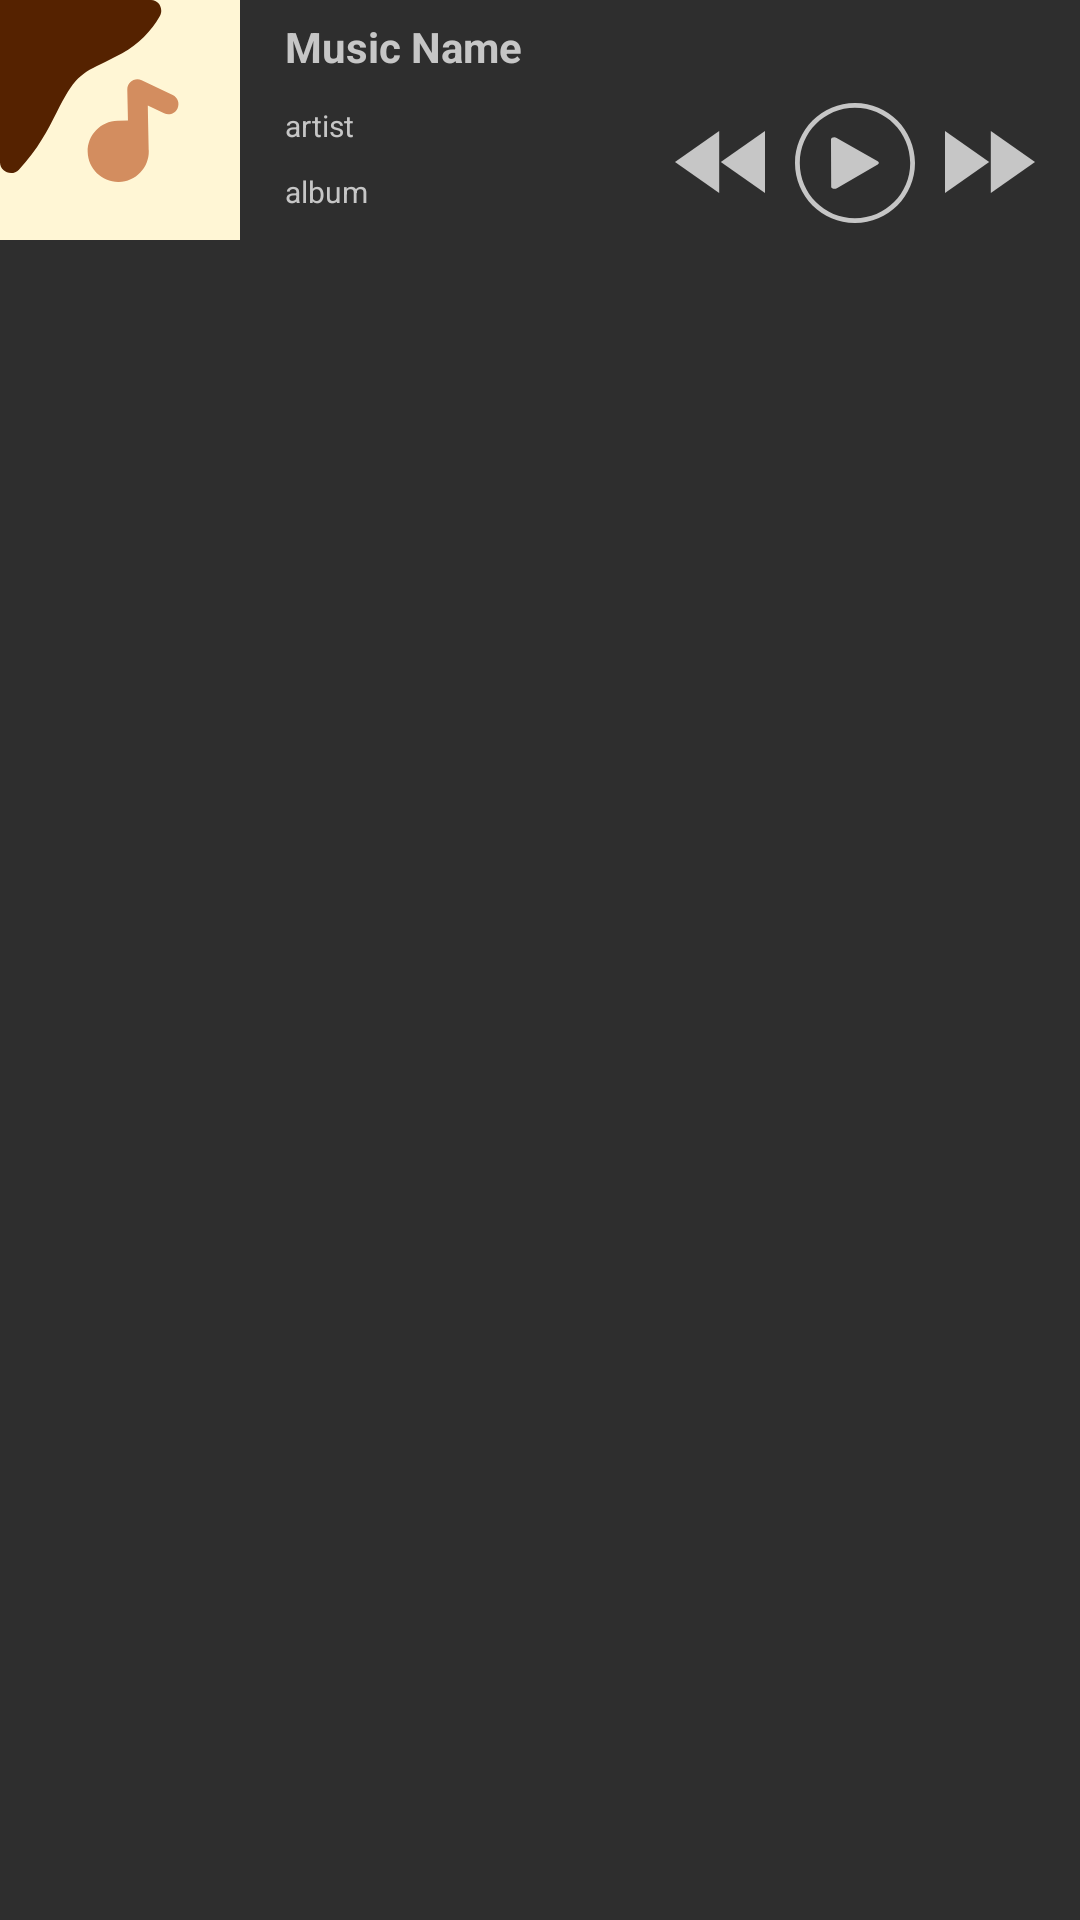

Icons on this 1080*1920 Android screen, each with the point to tap as [x,y]:
note: [120,120]
widget forward: [990,162]
widget play: [855,163]
widget rewind: [720,162]
